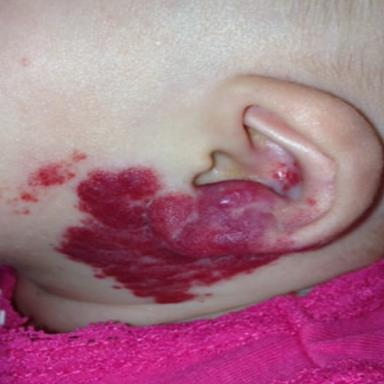Hemangiome: (59, 168, 276, 303)
